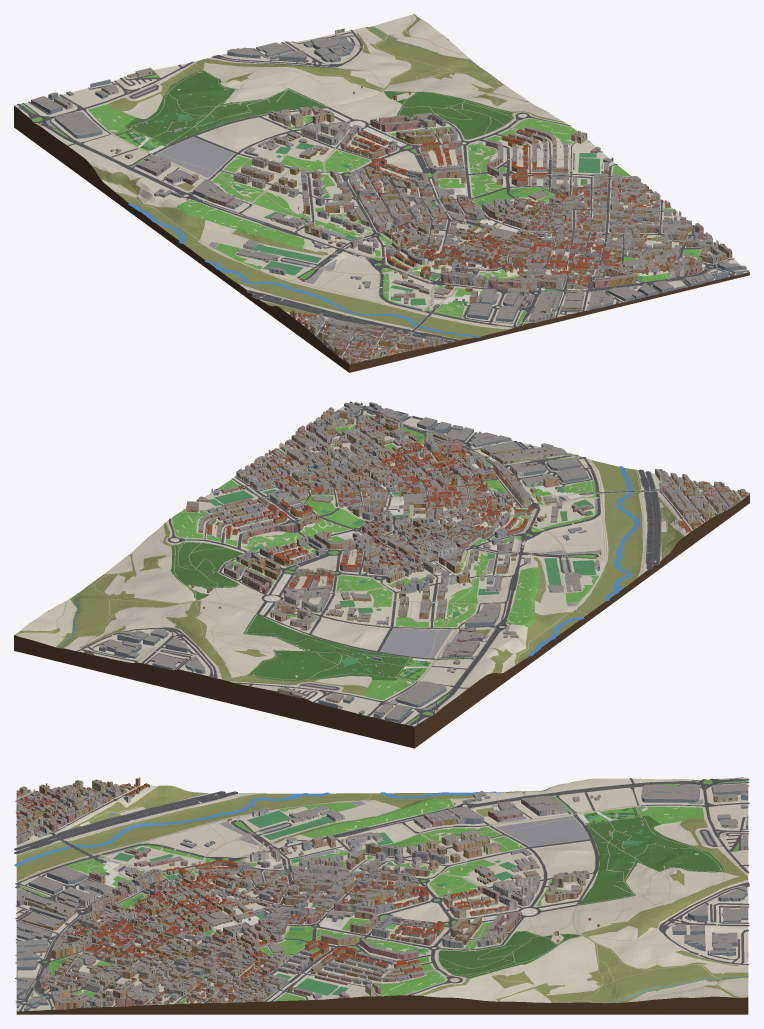
Rendered from ripollet.glb.
The picture shows the model from 3 angles, top to bottom: view 1: azimuth 30°, elevation 25°; view 2: azimuth 150°, elevation 25°; view 3: azimuth 270°, elevation 25°; orthographic projection. The views are drawn at different scales.
Visible parts, largest first — view 1: suelo, azotea, calzada, matorral, cesped, bosque, peatonal, tierra, muro_crema_piso, muro_blanco_piso, muro_ocre_piso, muro_melocoton_piso (+13 smaller); view 2: suelo, azotea, matorral, calzada, tierra, cesped, bosque, peatonal, muro_crema_piso, muro_blanco_piso, muro_ocre_piso, muro_melocoton_piso (+13 smaller); view 3: suelo, azotea, matorral, calzada, cesped, tierra, bosque, muro_blanco_piso, muro_melocoton_piso, muro_crema_piso, peatonal, muro_ocre_piso (+14 smaller).
Boxes of the visible parts, bbox=[...] form: suelo: bbox=[14, 14, 746, 363]; azotea: bbox=[31, 29, 747, 362]; calzada: bbox=[16, 29, 748, 360]; matorral: bbox=[36, 14, 565, 359]; cesped: bbox=[20, 74, 713, 325]; bosque: bbox=[114, 70, 513, 150]; peatonal: bbox=[81, 15, 734, 361]; tierra: bbox=[14, 106, 749, 372]; muro_crema_piso: bbox=[54, 28, 724, 364]; muro_blanco_piso: bbox=[150, 117, 718, 359]; muro_ocre_piso: bbox=[209, 128, 726, 359]; muro_melocoton_piso: bbox=[241, 106, 732, 356]; suelo: bbox=[16, 402, 742, 726]; azotea: bbox=[85, 401, 749, 719]; matorral: bbox=[14, 460, 741, 712]; calzada: bbox=[76, 403, 742, 725]; tierra: bbox=[14, 495, 749, 748]; cesped: bbox=[172, 420, 598, 724]; bosque: bbox=[170, 542, 430, 681]; peatonal: bbox=[17, 412, 743, 701]; muro_crema_piso: bbox=[84, 409, 749, 714]; muro_blanco_piso: bbox=[216, 417, 728, 657]; muro_ocre_piso: bbox=[207, 410, 738, 616]; muro_melocoton_piso: bbox=[186, 407, 735, 621]; suelo: bbox=[16, 777, 748, 1011]; azotea: bbox=[16, 778, 748, 1009]; matorral: bbox=[16, 779, 748, 1003]; calzada: bbox=[14, 777, 749, 1011]; cesped: bbox=[16, 779, 748, 1003]; tierra: bbox=[16, 778, 748, 1014]; bosque: bbox=[438, 807, 723, 977]; muro_blanco_piso: bbox=[18, 786, 567, 1007]; muro_melocoton_piso: bbox=[16, 787, 582, 1009]; muro_crema_piso: bbox=[16, 780, 748, 1005]; peatonal: bbox=[16, 791, 748, 1009]; muro_ocre_piso: bbox=[16, 777, 540, 1006].
Size of the model in its own units: 1381 by 92.86 by 1992.
26 materials, 24 textured.
